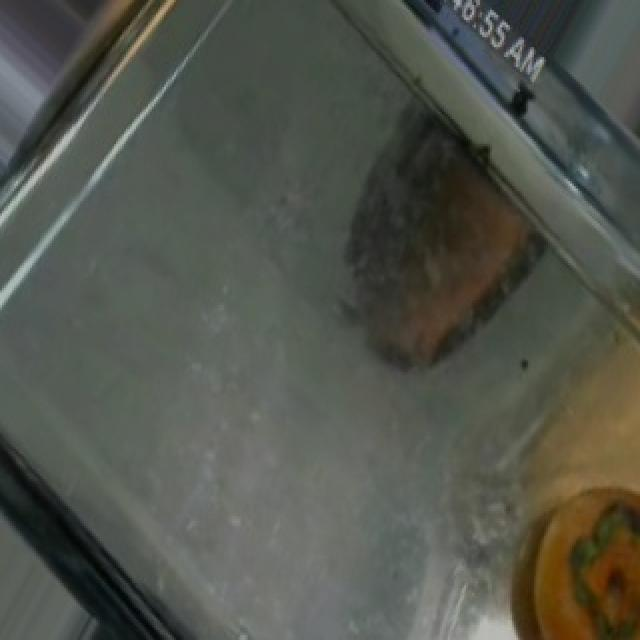Fruit: (574, 0, 640, 184)
